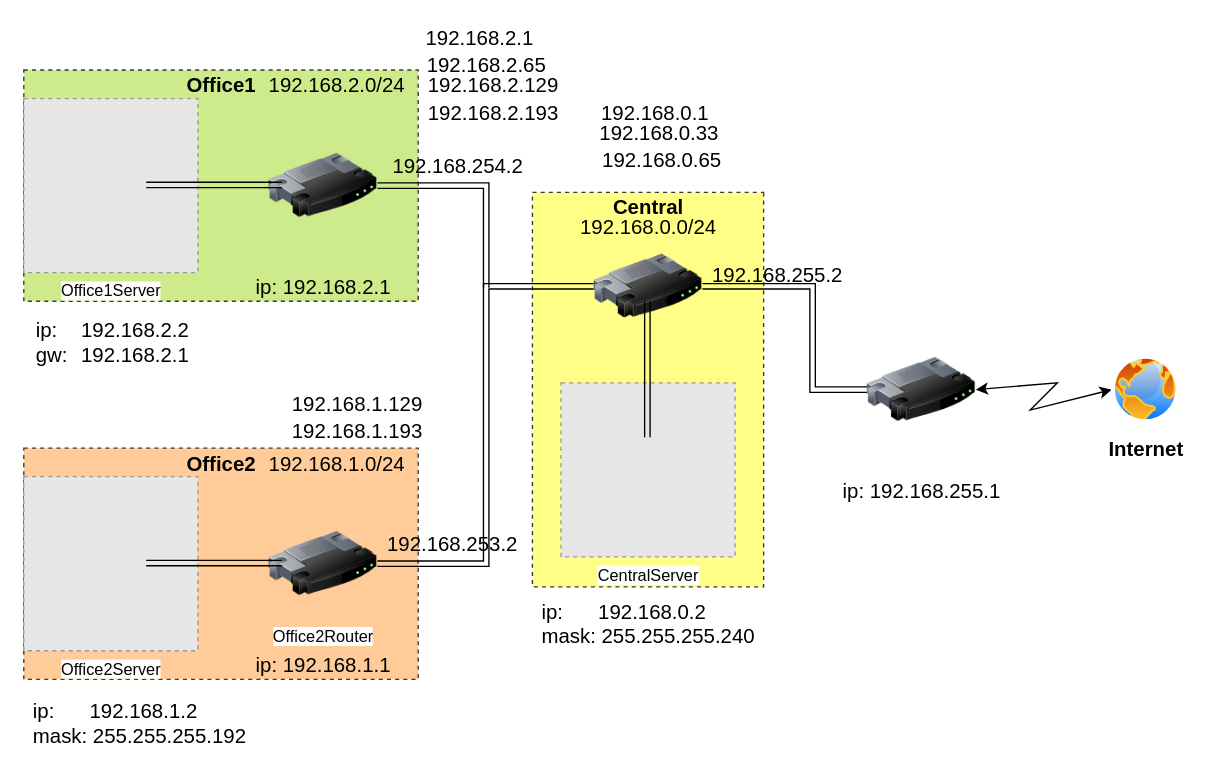
The diagram is 1206 pixels wide and 772 high, and some of its shapes have lost their labels. Grey dashed boxes stand in for pictures. Here are the shapes that lost their labels. From the top down, the centre of each, then its label:
[322,185]: Office1Router
[647,285]: CentralRouter
[920,389]: InetRouter
